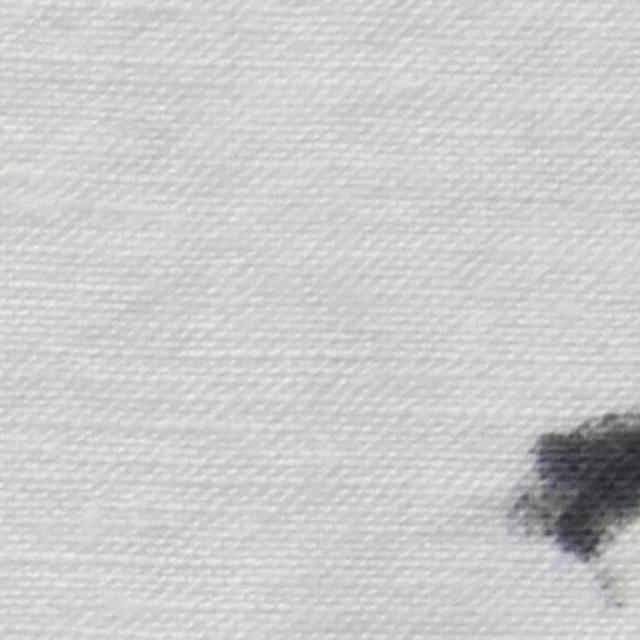Stain: (509, 414, 640, 562)
